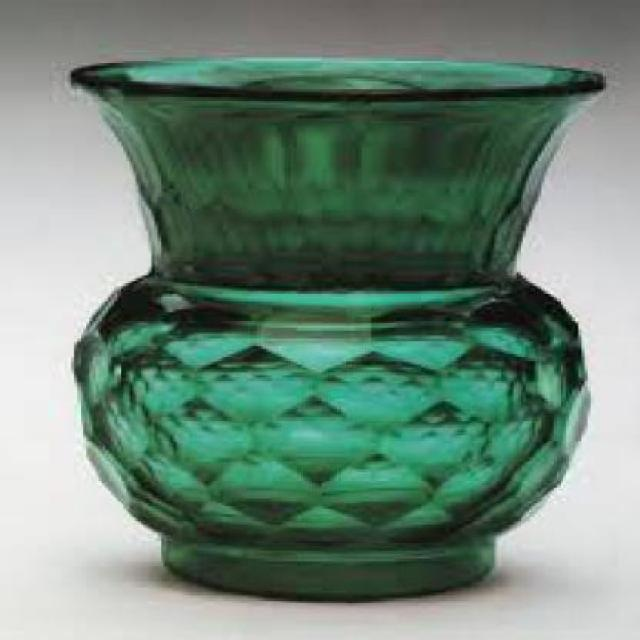kaca: (65, 55, 603, 596)
